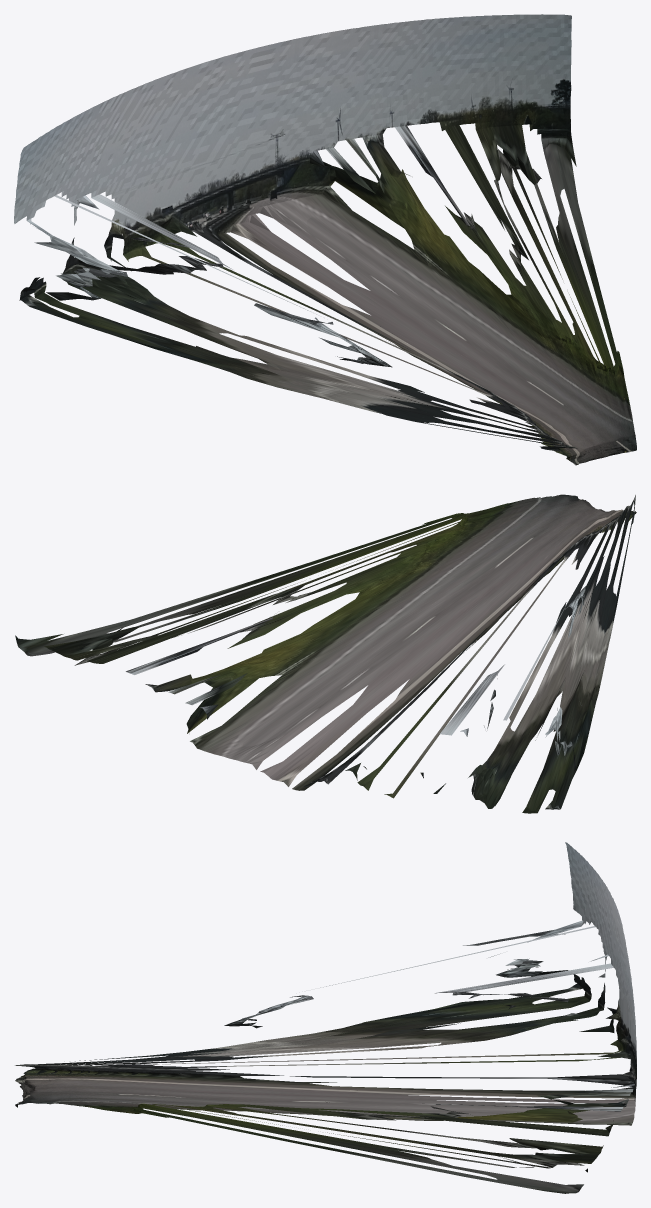
3 renders of one model, top to bottom at view 1: azimuth 30°, elevation 25°; view 2: azimuth 150°, elevation 25°; view 3: azimuth 270°, elevation 25°, orthographic. The views are drawn at different scales.
Parts seen in each view (by area): view 1: defaultobject; view 2: defaultobject; view 3: defaultobject.
Boxes of the visible parts, x1,y1,x2,y2 form: defaultobject: (14,14,636,465); defaultobject: (15,494,636,813); defaultobject: (15,842,636,1193).
Bounding box in the file's own units: 41.11 × 12.85 × 44.8.
Materials: 1 (1 with a texture image).
